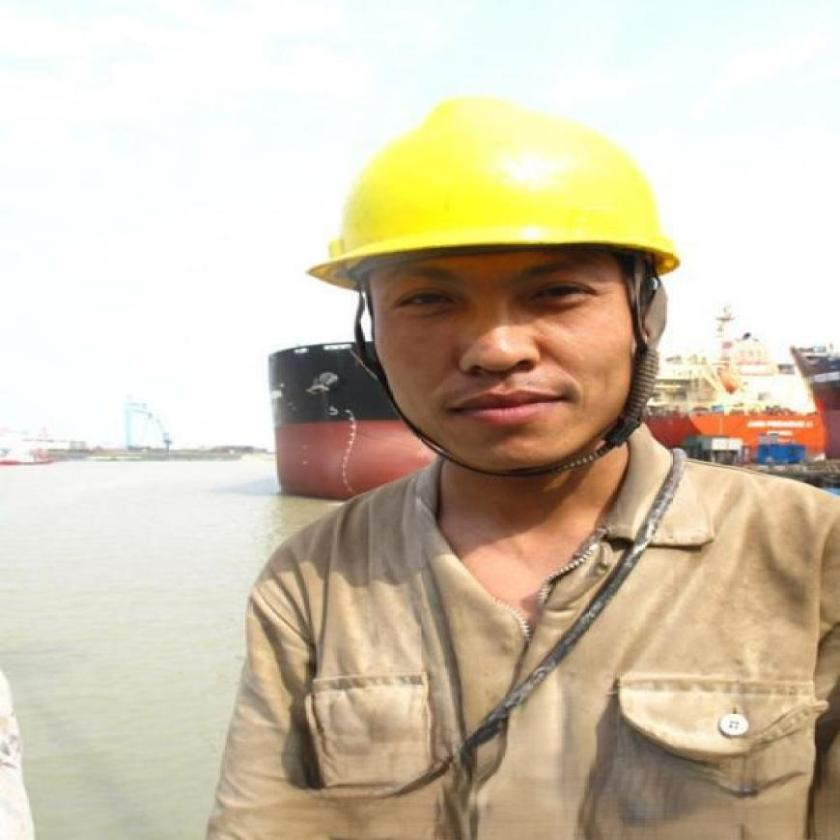Con_casco: (303, 101, 680, 506)
